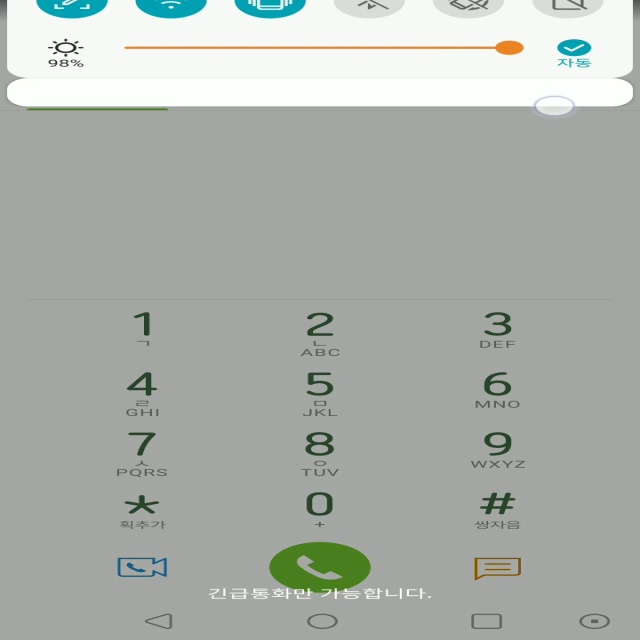Cursor: (534, 95, 578, 117)
